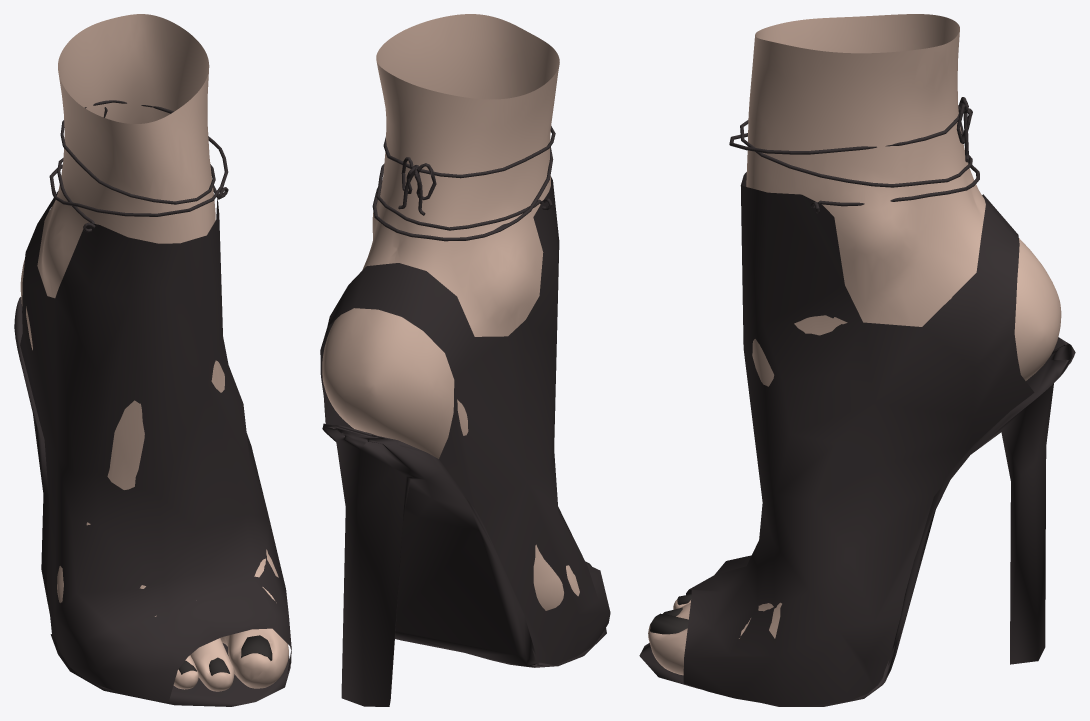
The model's file is shoes-test.glb.
3 renders of one model, left to right at view 1: azimuth 30°, elevation 25°; view 2: azimuth 150°, elevation 25°; view 3: azimuth 270°, elevation 25°, orthographic. The views are drawn at different scales.
Parts seen in each view (by area): view 1: footwear-shoes-test-4, footwear-proxy-foot, footwear-shoes-test-1; view 2: footwear-shoes-test-4, footwear-proxy-foot; view 3: footwear-shoes-test-4, footwear-proxy-foot, footwear-shoes-test-1.
Boxes of the visible parts, box(x1,y1,x2,y2) form: footwear-shoes-test-4: box(14, 100, 291, 706); footwear-proxy-foot: box(20, 14, 288, 691); footwear-shoes-test-1: box(178, 635, 272, 675); footwear-shoes-test-4: box(320, 126, 610, 706); footwear-proxy-foot: box(322, 14, 579, 610); footwear-shoes-test-4: box(639, 97, 1075, 706); footwear-proxy-foot: box(648, 14, 1061, 675); footwear-shoes-test-1: box(650, 594, 691, 634).
Size of the model in its own units: 0.1504 by 0.3968 by 0.2483.
